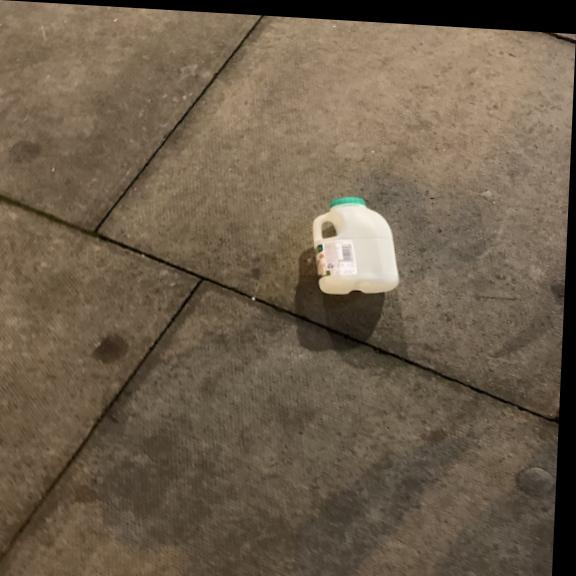Plastik: (307, 193, 405, 298)
